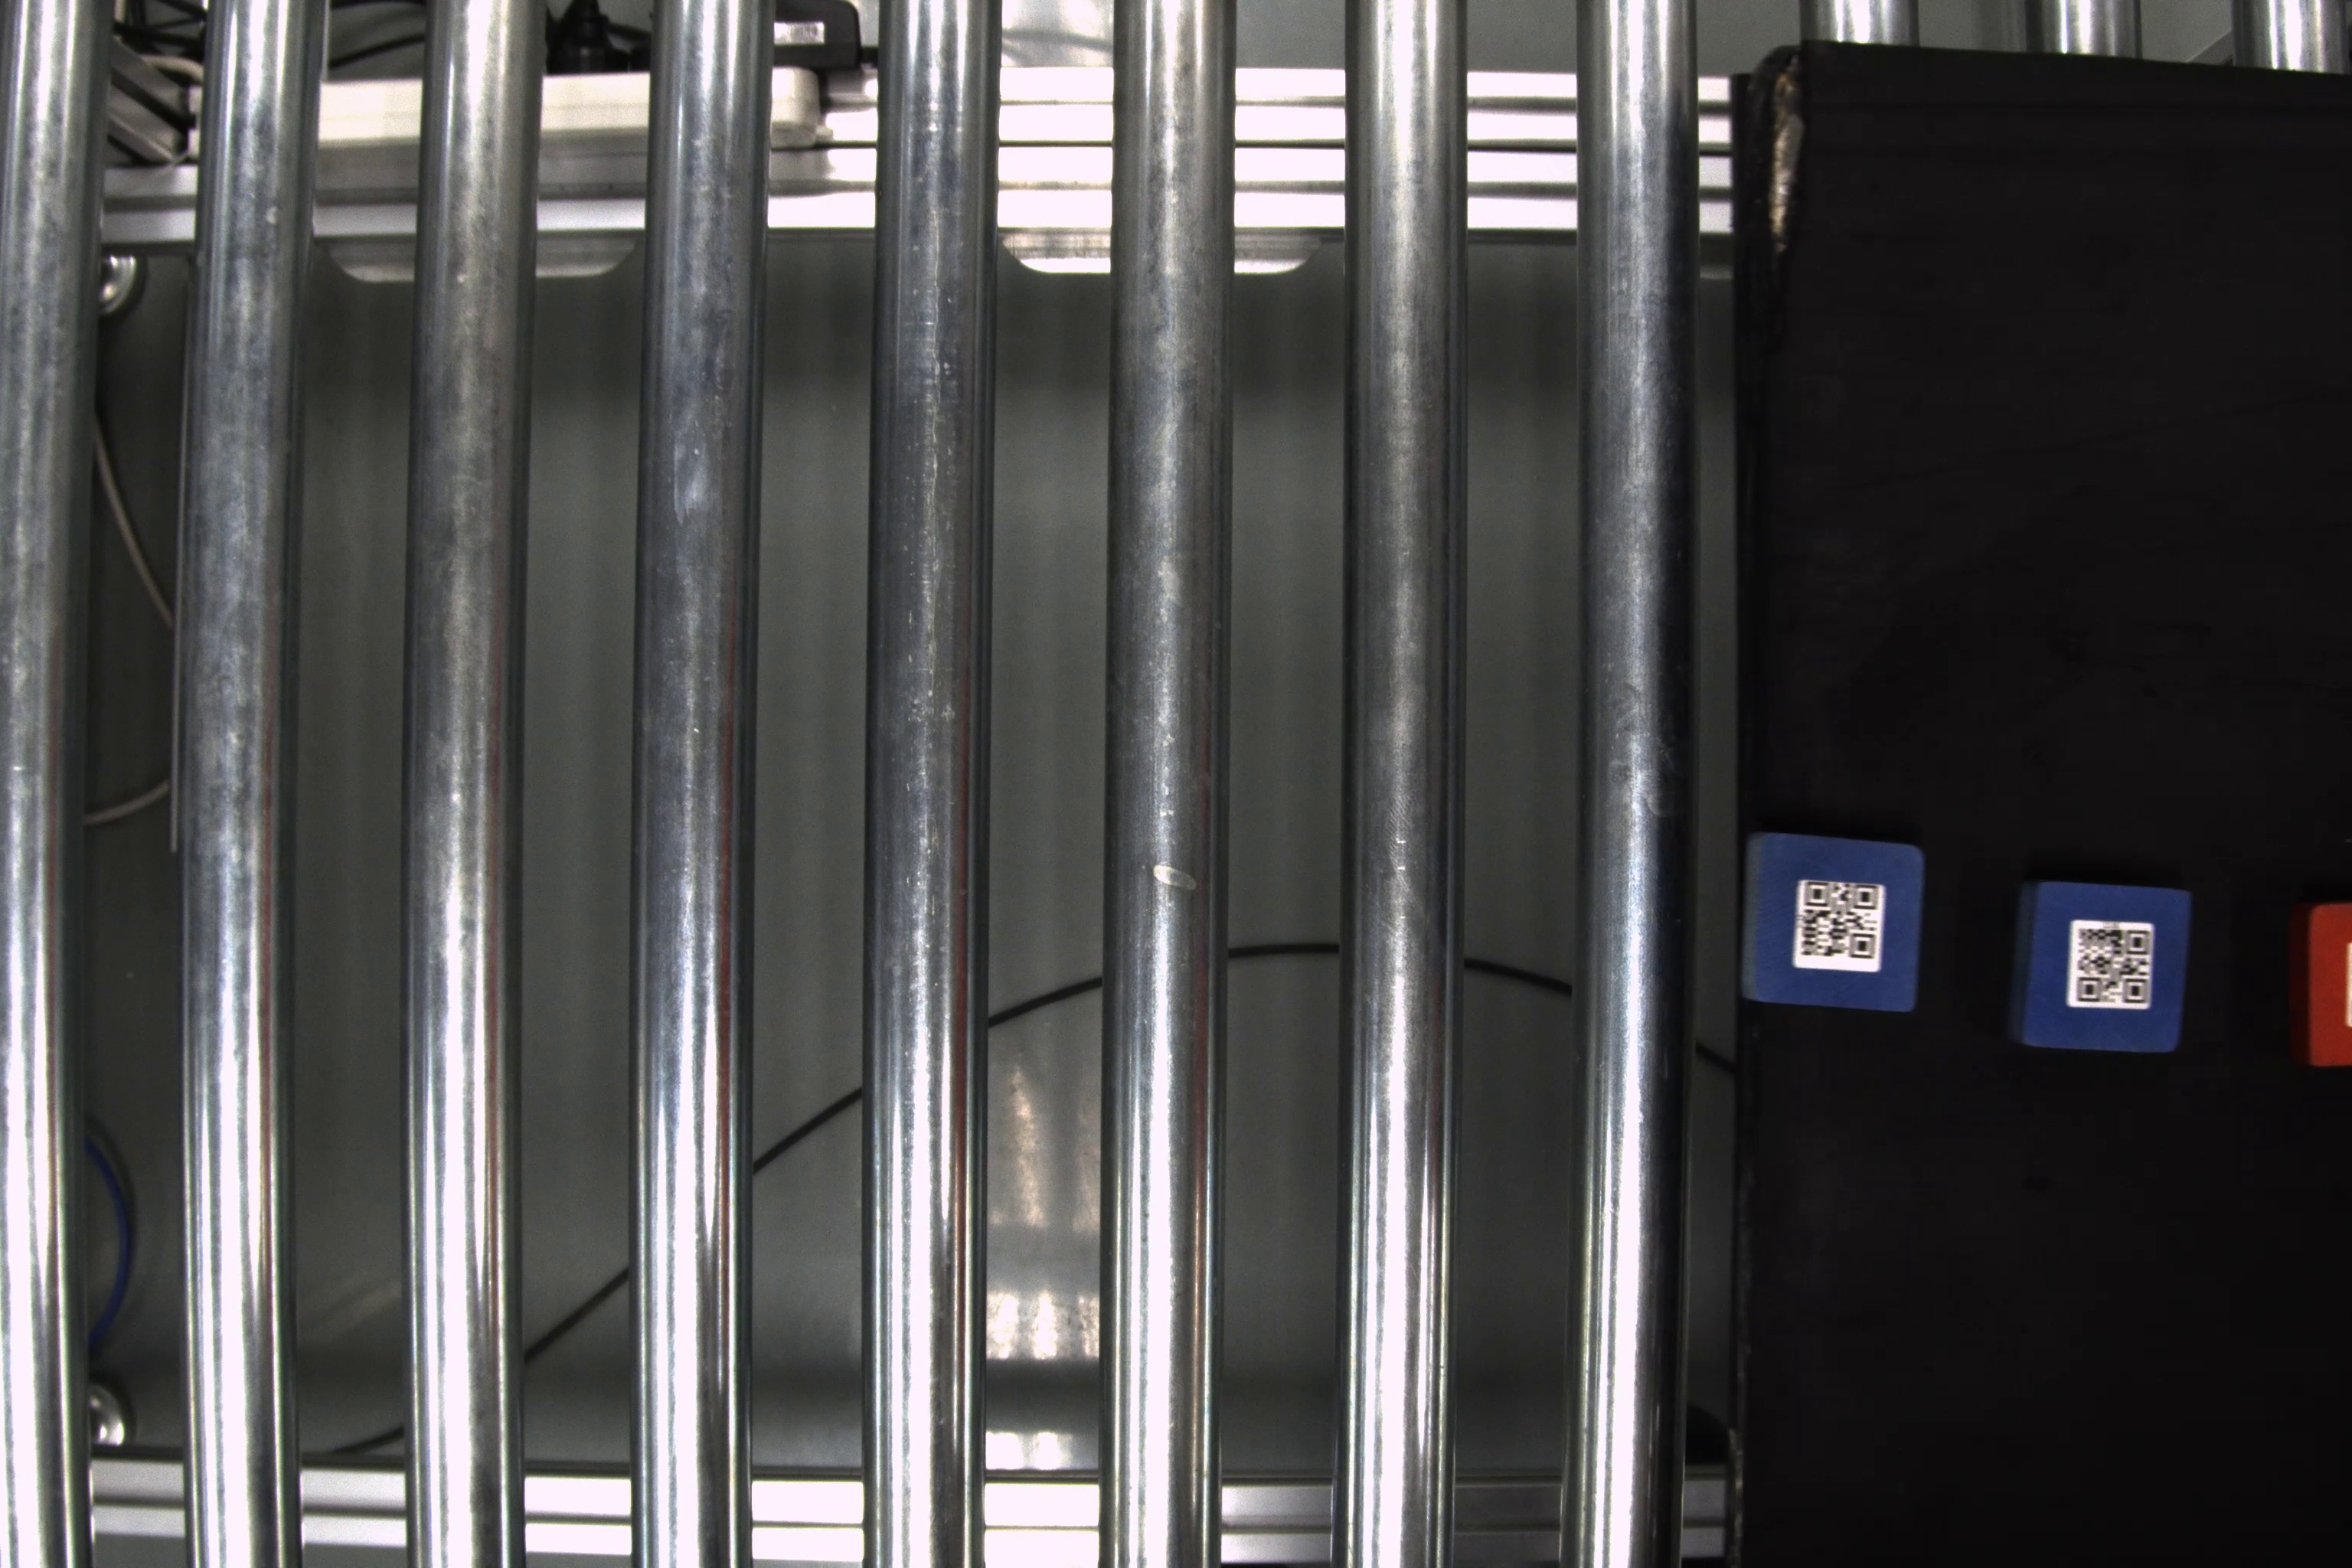wood: (1739, 822, 1925, 1015), (2007, 877, 2200, 1055), (2294, 896, 2347, 1074)
